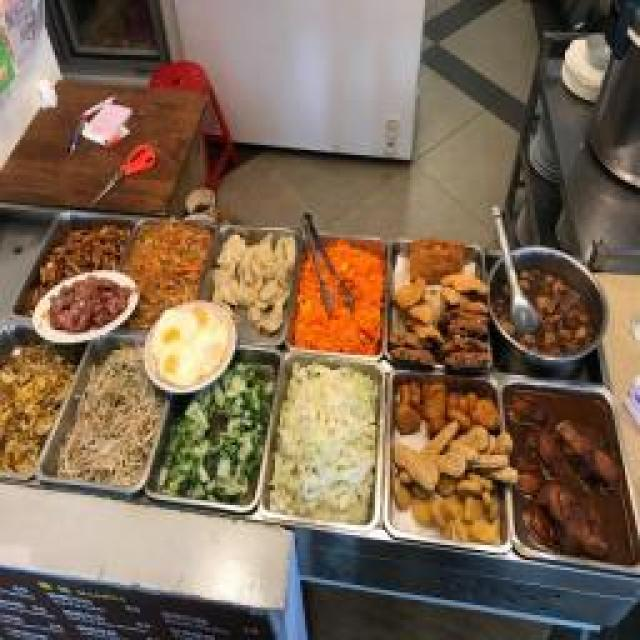Wet Waste: (280, 370, 372, 515), (305, 245, 383, 347), (85, 352, 145, 480), (150, 307, 228, 385), (403, 482, 505, 538), (222, 235, 290, 305), (45, 280, 127, 330)
